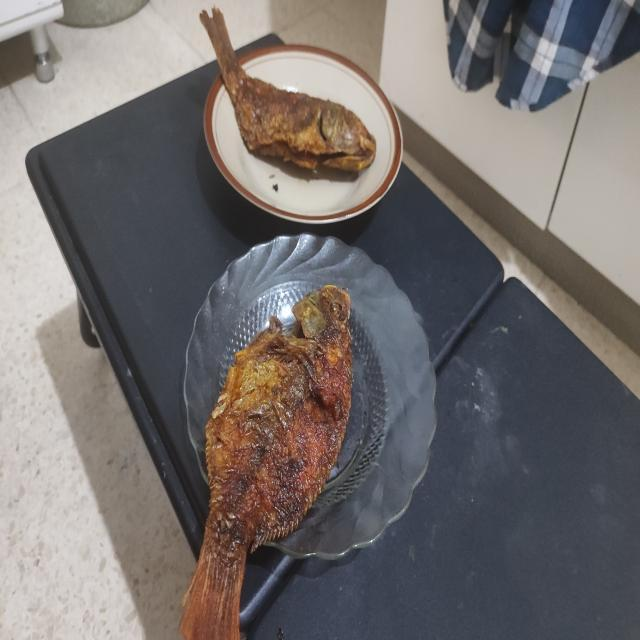ikan_mujair: (180, 285, 352, 640), (200, 8, 376, 172)
